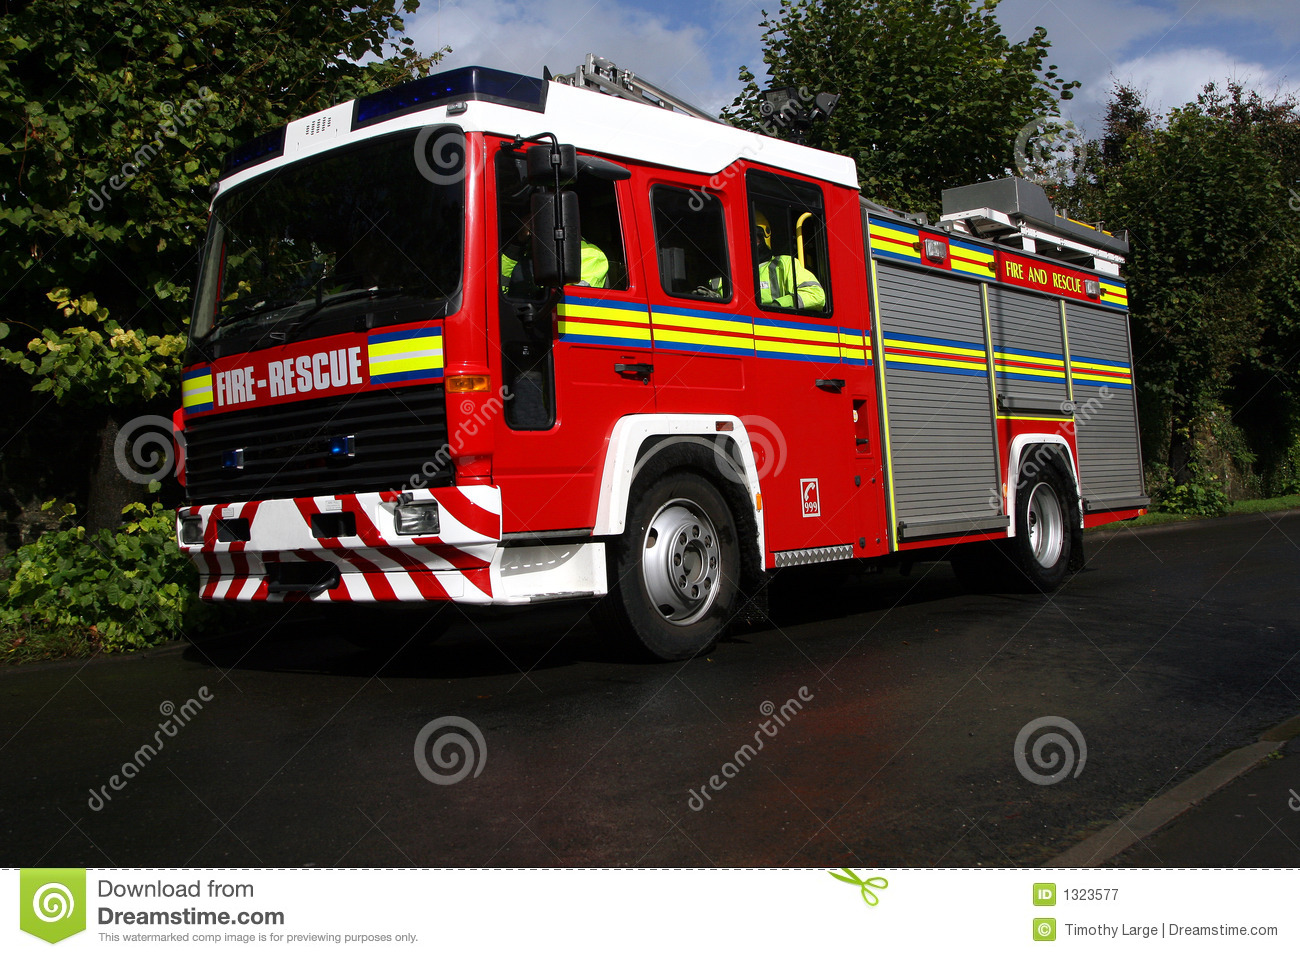firetruck: (155, 62, 1180, 627)
